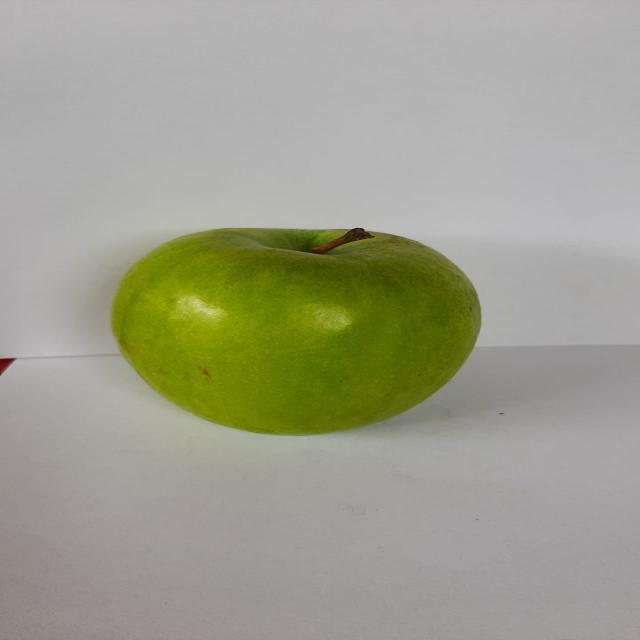50-_ripeness: (78, 222, 492, 442)
